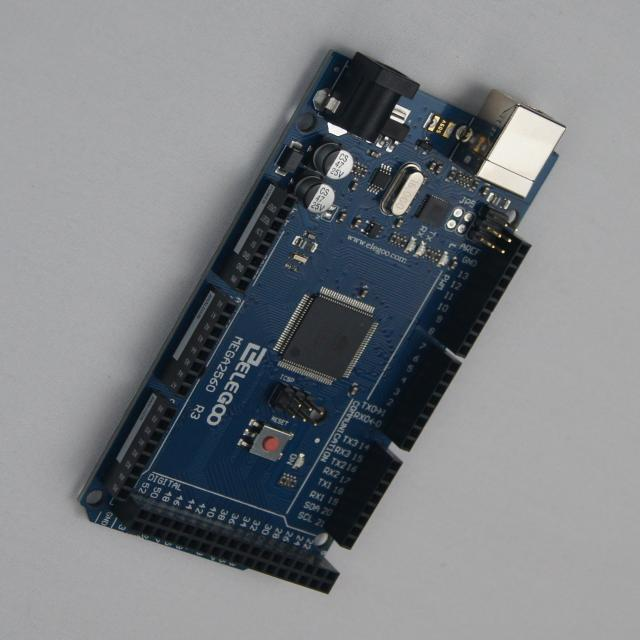Arduino Mega 2560 -Blue-: (83, 53, 566, 593)
